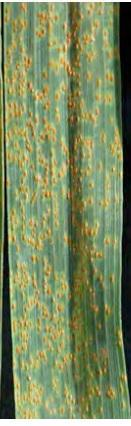Wheat: (21, 7, 116, 415)
